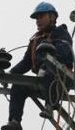boots: (39, 98, 61, 121), (1, 117, 23, 130)
gloves: (63, 0, 75, 6)
hard-hat: (30, 0, 58, 17)
ppe-suit: (5, 21, 75, 121)
